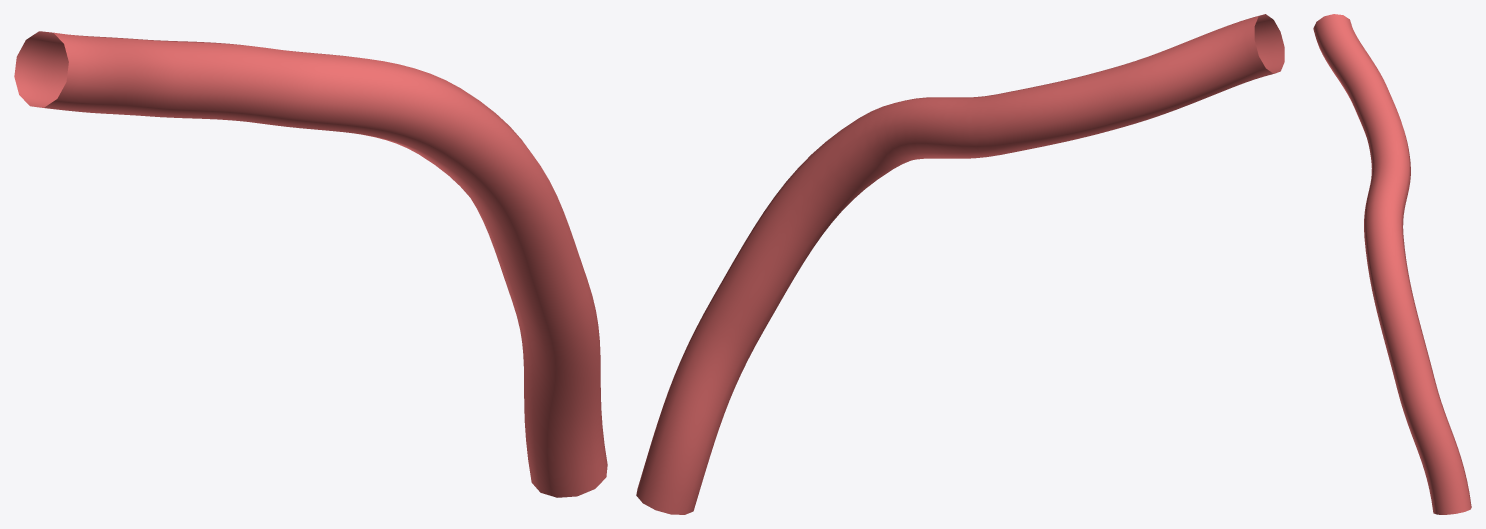
File: Axillary_artery.l_BezierCurve.156.glb
3 views of the same model, side by side, from view 1: azimuth 30°, elevation 25°; view 2: azimuth 150°, elevation 25°; view 3: azimuth 270°, elevation 25° (orthographic). The views are drawn at different scales.
Parts seen in each view (by area): view 1: Axillary_artery.l_BezierCurve.156; view 2: Axillary_artery.l_BezierCurve.156; view 3: Axillary_artery.l_BezierCurve.156.
Boxes of the visible parts, left/top/right/bottom form: Axillary_artery.l_BezierCurve.156: left=14, top=31, right=607, bottom=497; Axillary_artery.l_BezierCurve.156: left=636, top=14, right=1284, bottom=514; Axillary_artery.l_BezierCurve.156: left=1313, top=14, right=1471, bottom=514.
Size of the model in its own units: 0.0716 by 0.0682 by 0.0283.
